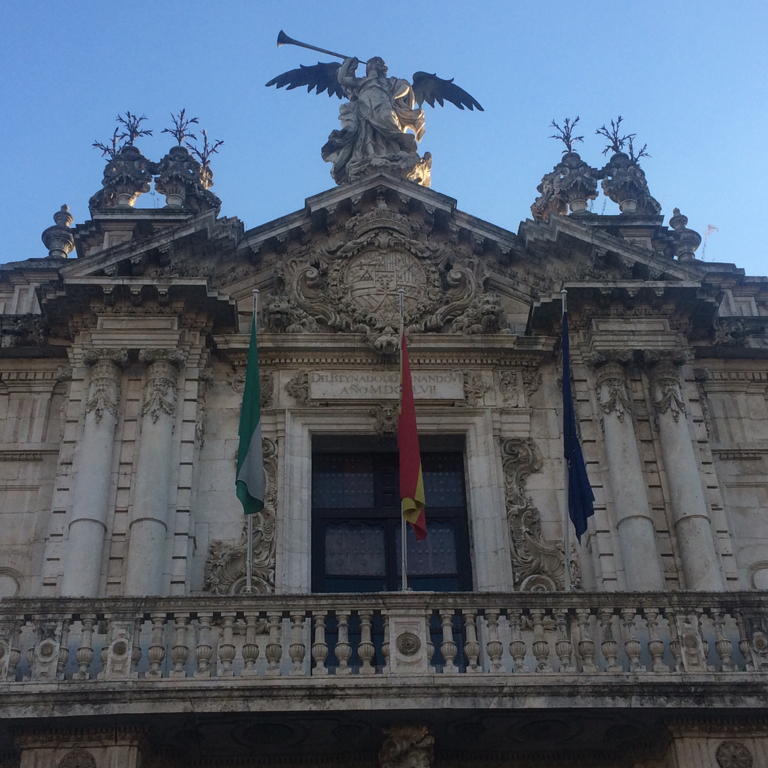fronton-partido: (57, 173, 721, 312)
vano-adintelado: (272, 407, 512, 675)
